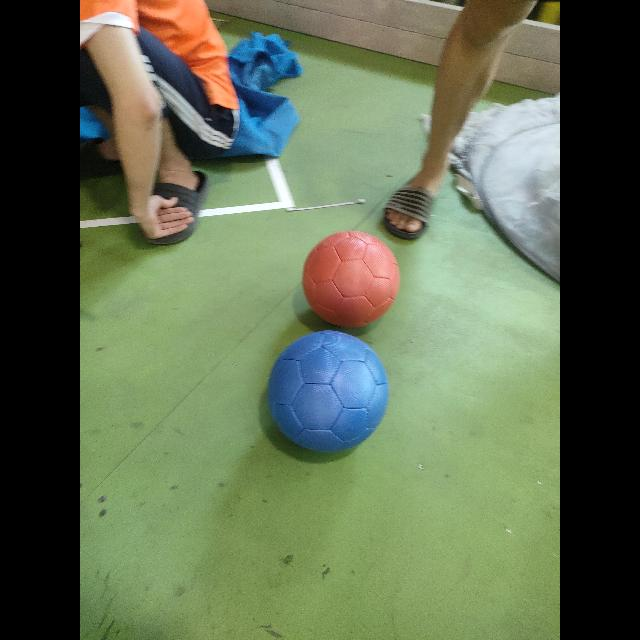B: (268, 331, 390, 454)
R: (302, 231, 400, 325)
